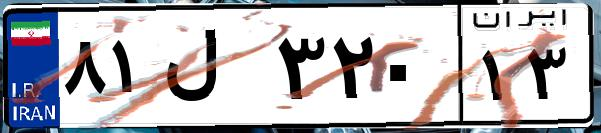0: (385, 28, 445, 110)
1: (475, 38, 525, 113), (110, 28, 158, 98)
2: (330, 28, 385, 110)
3: (270, 28, 330, 110), (525, 38, 570, 115)
8: (57, 26, 110, 100)
ل: (158, 20, 270, 120)
